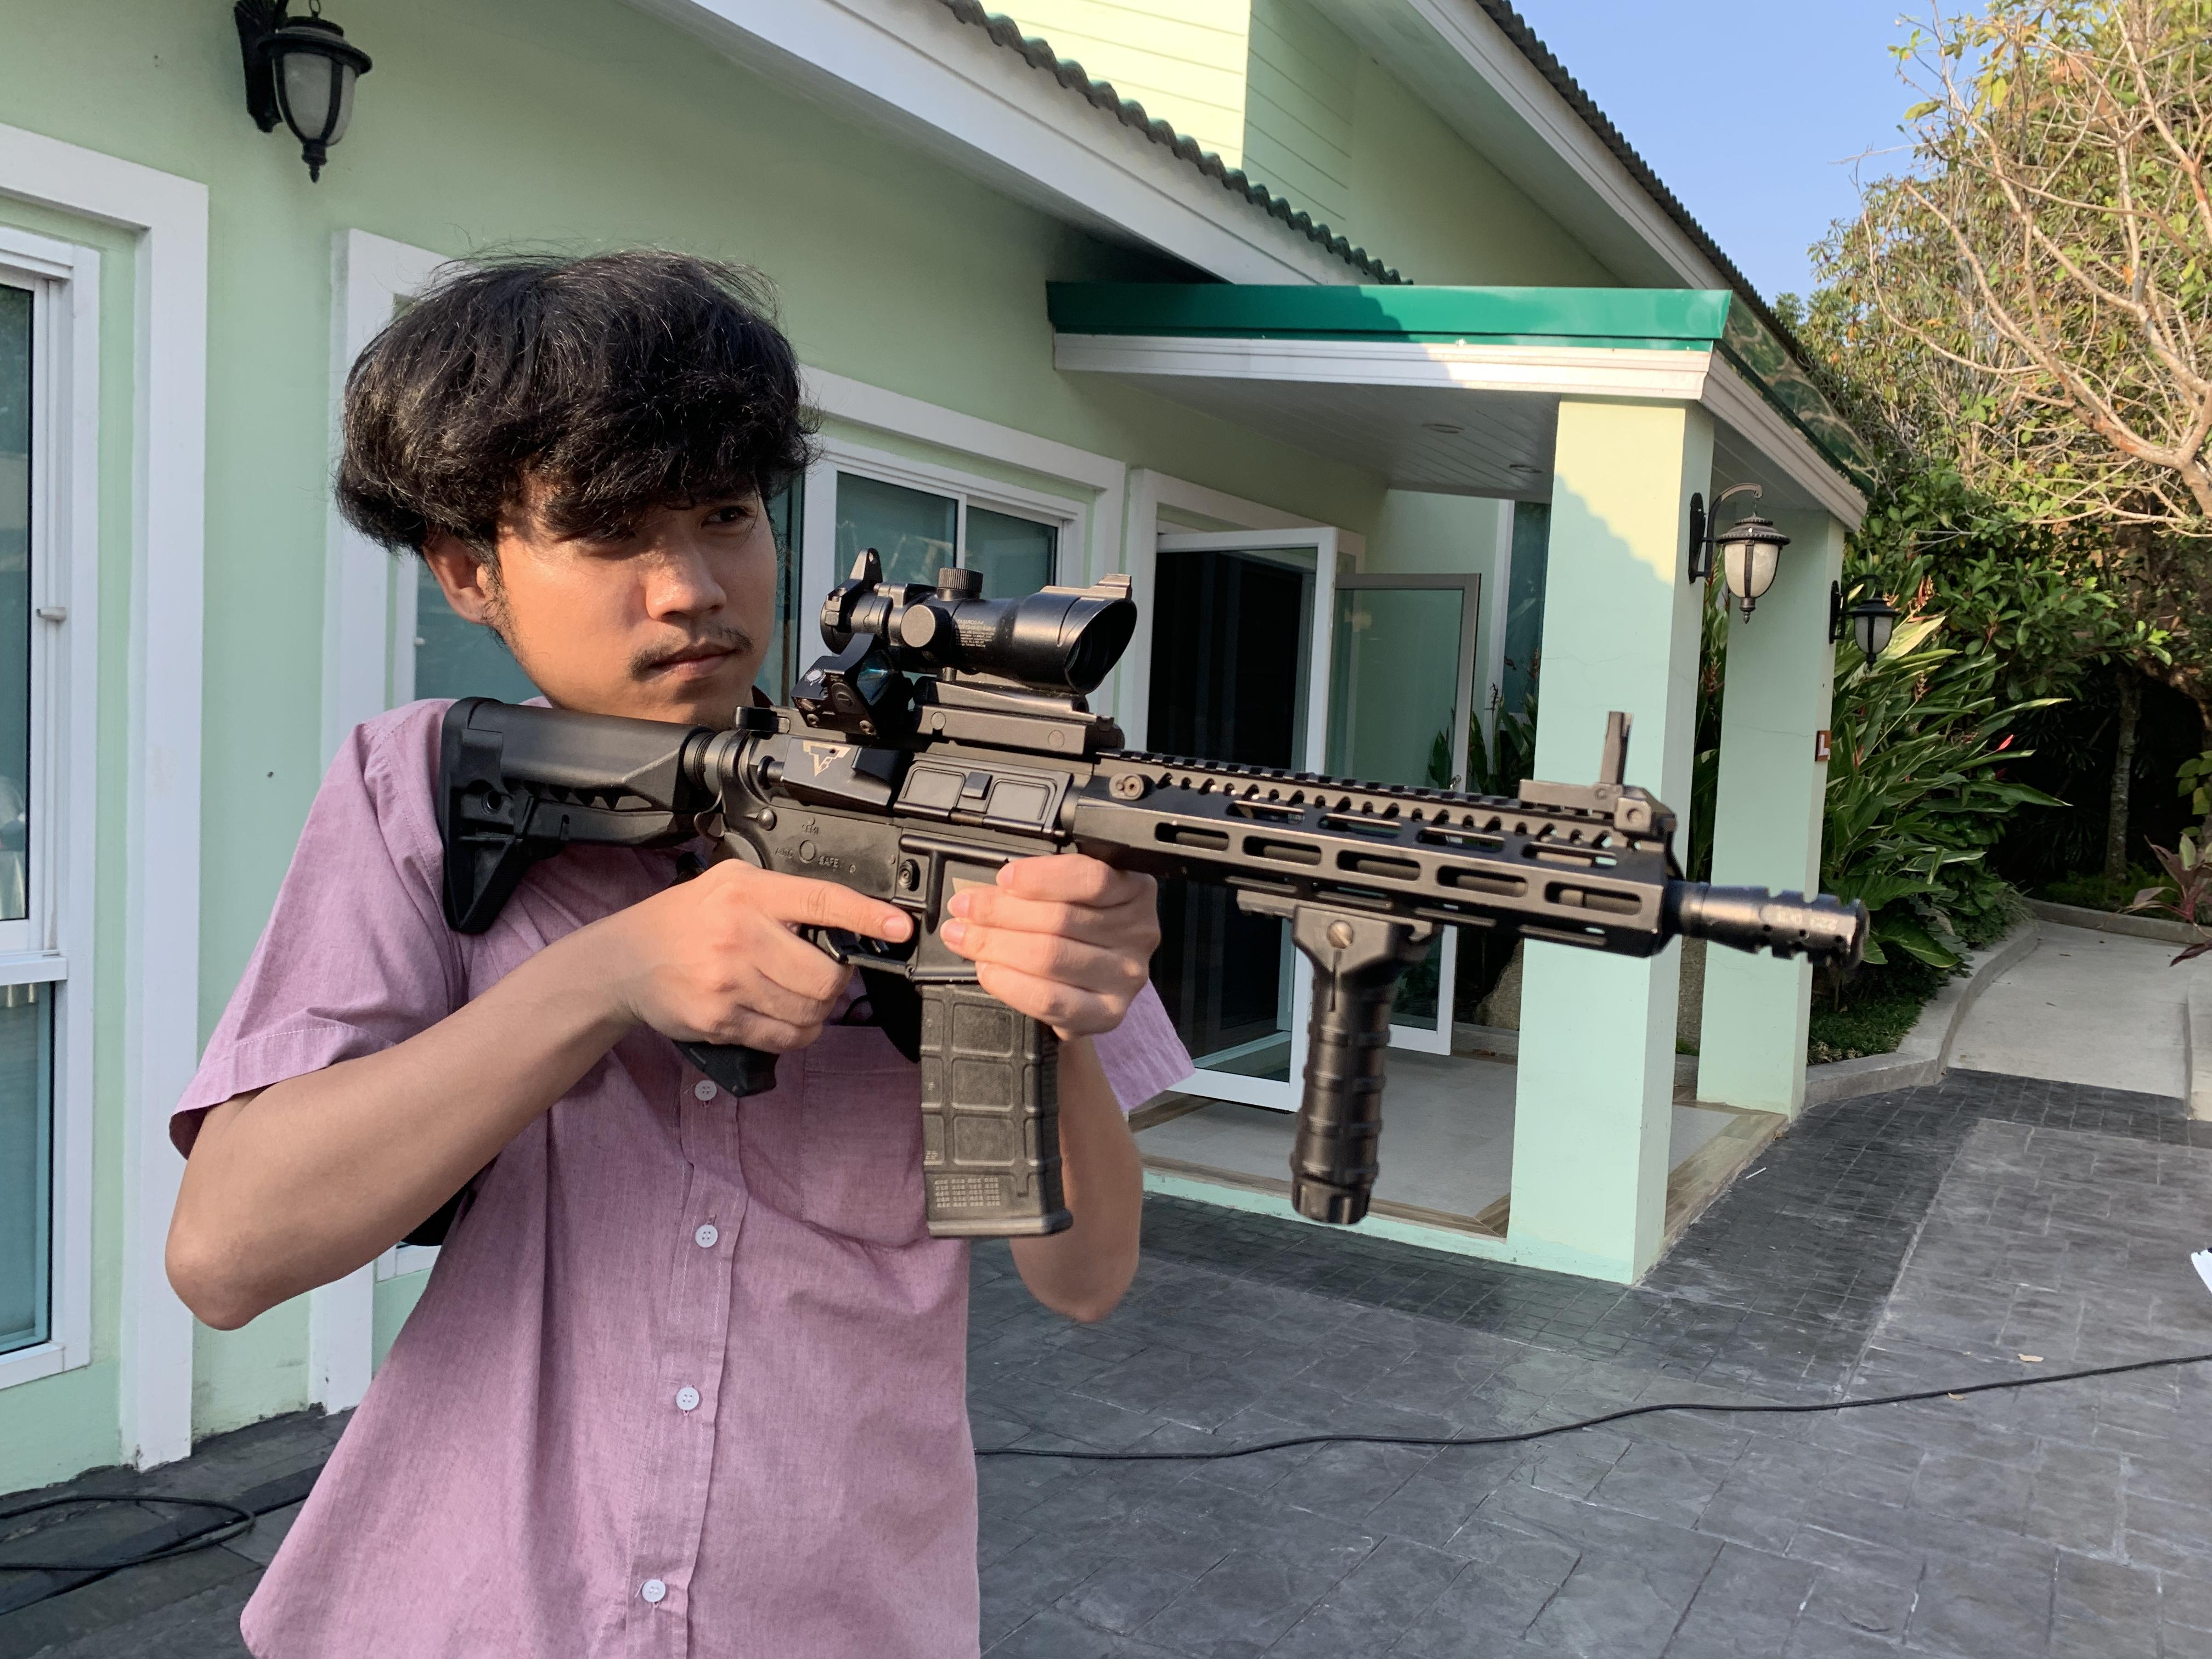criminal: (162, 244, 1883, 1659)
weapon: (432, 544, 1879, 1243)
